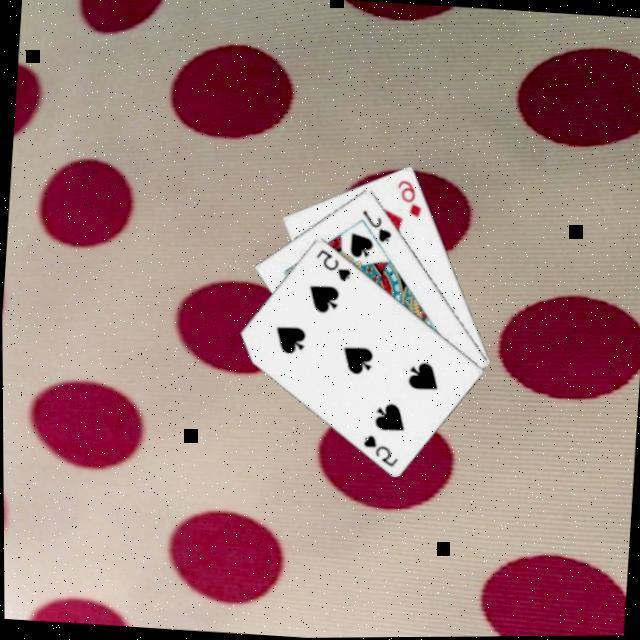5S: (310, 242, 354, 282), (356, 428, 400, 468)
6D: (390, 174, 424, 218)
JS: (354, 204, 394, 244)
